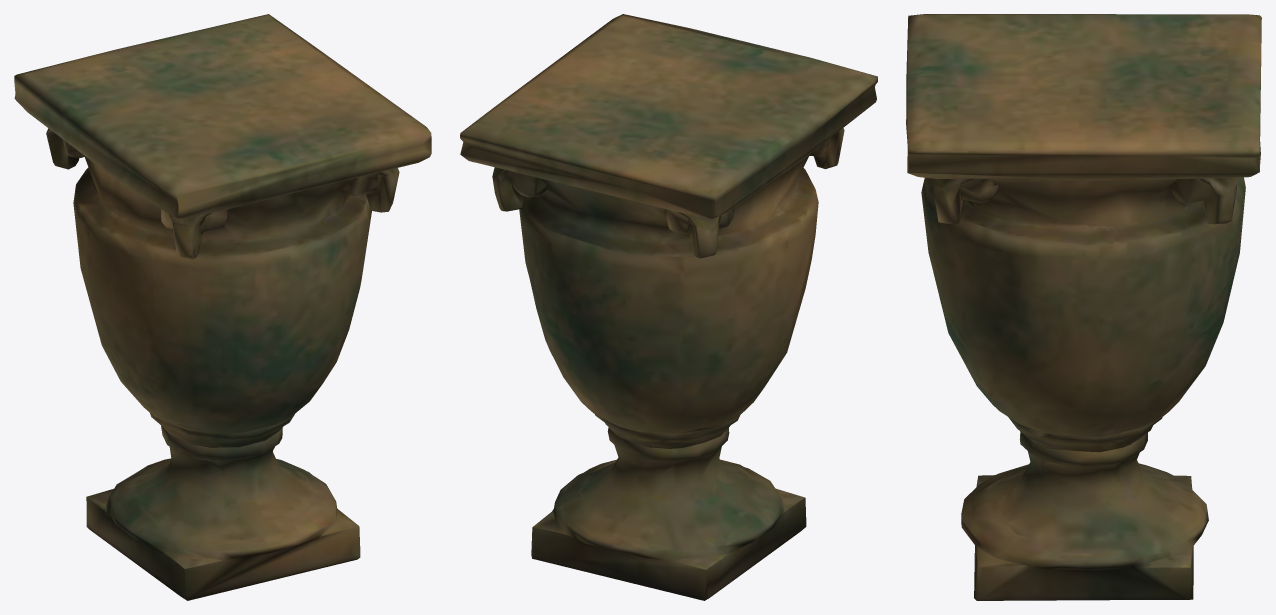
The model's file is chipped-bronze-urn-v001.glb.
3 renders of one model, left to right at view 1: azimuth 30°, elevation 25°; view 2: azimuth 150°, elevation 25°; view 3: azimuth 270°, elevation 25°, orthographic. The views are drawn at different scales.
Visible parts, largest first — view 1: chipped-bronze-urn; view 2: chipped-bronze-urn; view 3: chipped-bronze-urn.
Part boxes in pixels (x1=…): chipped-bronze-urn: x1=14, y1=14, x2=431, y2=600; chipped-bronze-urn: x1=460, y1=14, x2=877, y2=600; chipped-bronze-urn: x1=906, y1=14, x2=1261, y2=600.
Size of the model in its own units: 0.6187 by 0.9994 by 0.6724.
1 material, 1 textured.
